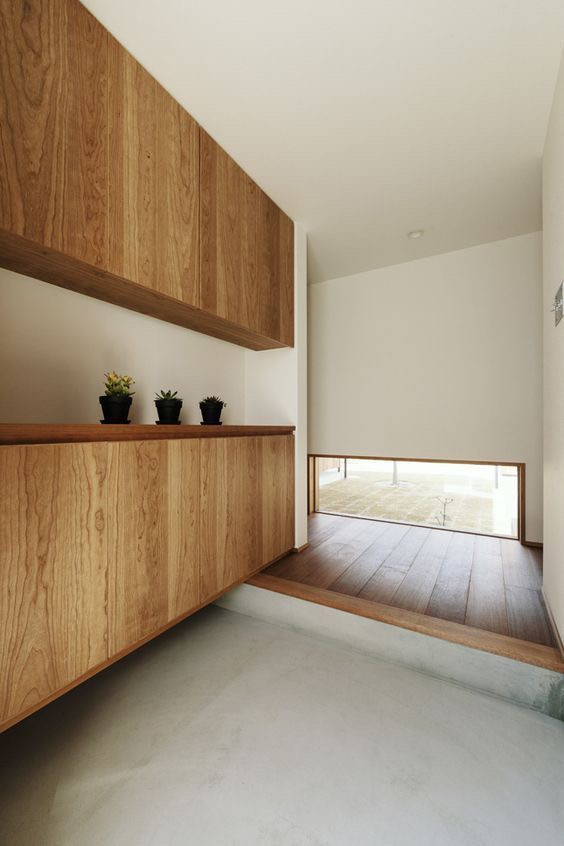floor: (0, 603, 563, 845)
